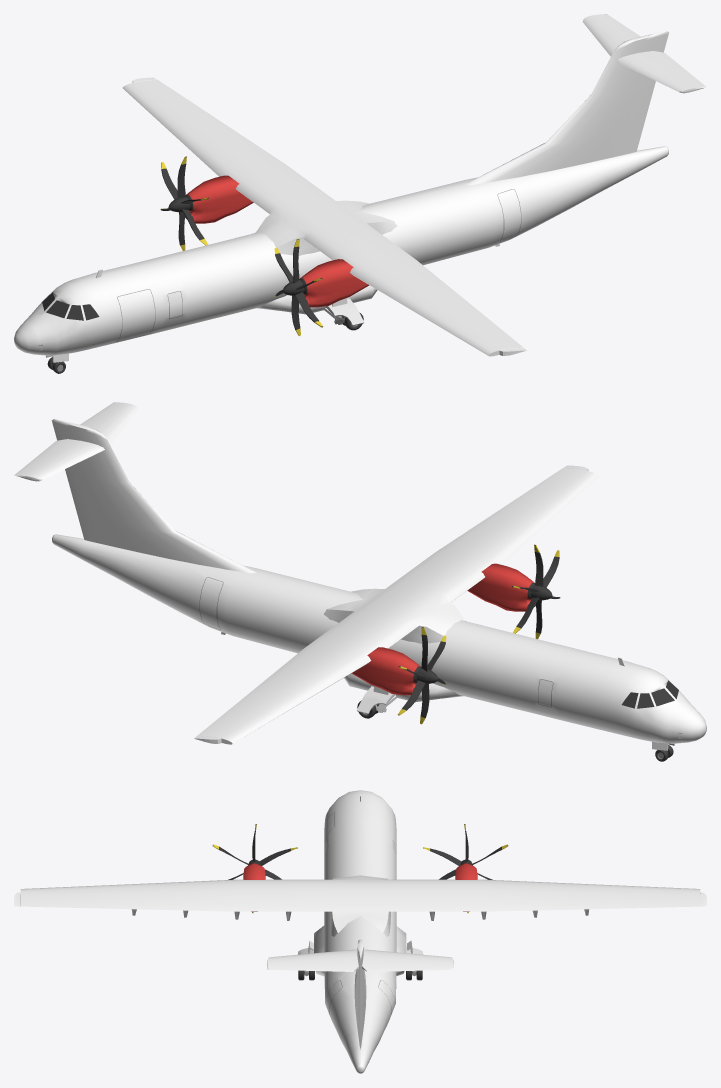
File: atr72.glb
3 renders of one model, top to bottom at view 1: azimuth 30°, elevation 25°; view 2: azimuth 150°, elevation 25°; view 3: azimuth 270°, elevation 25°, orthographic. The views are drawn at different scales.
Parts seen in each view (by area): view 1: Circle.023_Body Wings_0, Circle.025_Wings_0, Circle.024_Body Wings_0, Cube.026_Engines Wing_0, Circle.026_Wings_0, Cylinder.024_Black_0, Circle.023_Jendela_0; view 2: Circle.023_Body Wings_0, Circle.025_Wings_0, Circle.024_Body Wings_0, Cube.026_Engines Wing_0, Circle.026_Wings_0, Cylinder.024_Black_0, Circle.023_Jendela_0; view 3: Circle.025_Wings_0, Circle.023_Body Wings_0, Circle.026_Wings_0, Cylinder.024_Black_0, Circle.024_Body Wings_0, Cube.026_Engines Wing_0.
Boxes of the visible parts, x1,y1,x2,y2 form: Circle.023_Body Wings_0: (14, 146, 668, 355); Circle.025_Wings_0: (122, 77, 526, 356); Circle.024_Body Wings_0: (464, 31, 668, 185); Cube.026_Engines Wing_0: (186, 175, 369, 307); Circle.026_Wings_0: (582, 14, 706, 93); Cylinder.024_Black_0: (160, 156, 322, 329); Circle.023_Jendela_0: (42, 292, 99, 320); Circle.023_Body Wings_0: (52, 534, 706, 743); Circle.025_Wings_0: (194, 465, 598, 744); Circle.024_Body Wings_0: (51, 419, 256, 573); Cube.026_Engines Wing_0: (351, 563, 534, 695); Circle.026_Wings_0: (14, 402, 138, 481); Cylinder.024_Black_0: (398, 544, 560, 717); Circle.023_Jendela_0: (621, 680, 678, 708); Circle.025_Wings_0: (14, 875, 706, 936); Circle.023_Body Wings_0: (314, 790, 406, 1073); Circle.026_Wings_0: (267, 949, 453, 971); Cylinder.024_Black_0: (212, 824, 508, 879); Circle.024_Body Wings_0: (354, 939, 366, 1049); Cube.026_Engines Wing_0: (243, 863, 477, 911).
Bounding box in the file's own units: 27.2 × 7.62 × 26.87.
